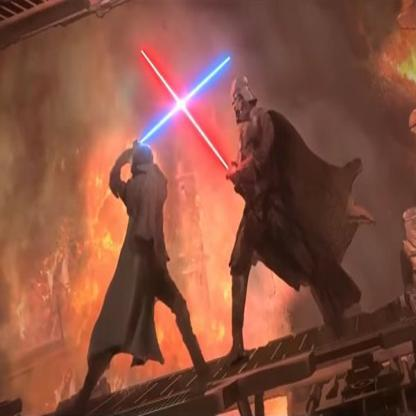lightsaber: (141, 50, 248, 194), (135, 56, 230, 155)
